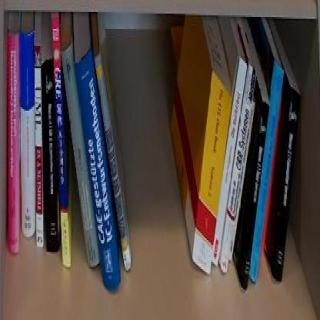book-spine: (74, 47, 122, 296), (187, 70, 234, 281), (59, 42, 101, 269), (92, 50, 132, 275), (246, 58, 285, 284), (208, 55, 248, 271), (217, 63, 257, 274), (238, 99, 271, 292), (270, 86, 301, 286), (51, 17, 71, 268), (227, 99, 256, 265), (41, 58, 59, 254), (20, 31, 36, 242), (7, 30, 20, 257), (33, 45, 43, 249)
